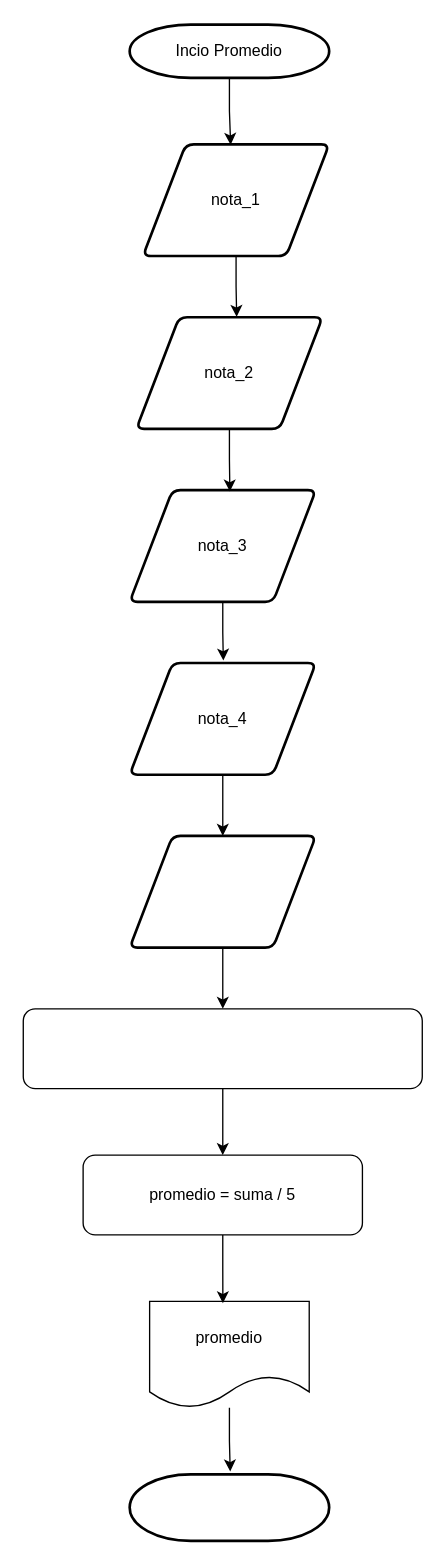
Some shapes in this 446 by 1564 pixel diagram are drawn without their labels. The box of each missing label's shape, as (x1, y1, x2, y2) in pixels:
Fin Promedio: (128, 1472, 330, 1541)
nota_5: (128, 834, 317, 948)
suma = nota_1 + nota_2 + nota_3 + nota_4 + nota_5: (22, 1007, 422, 1089)
